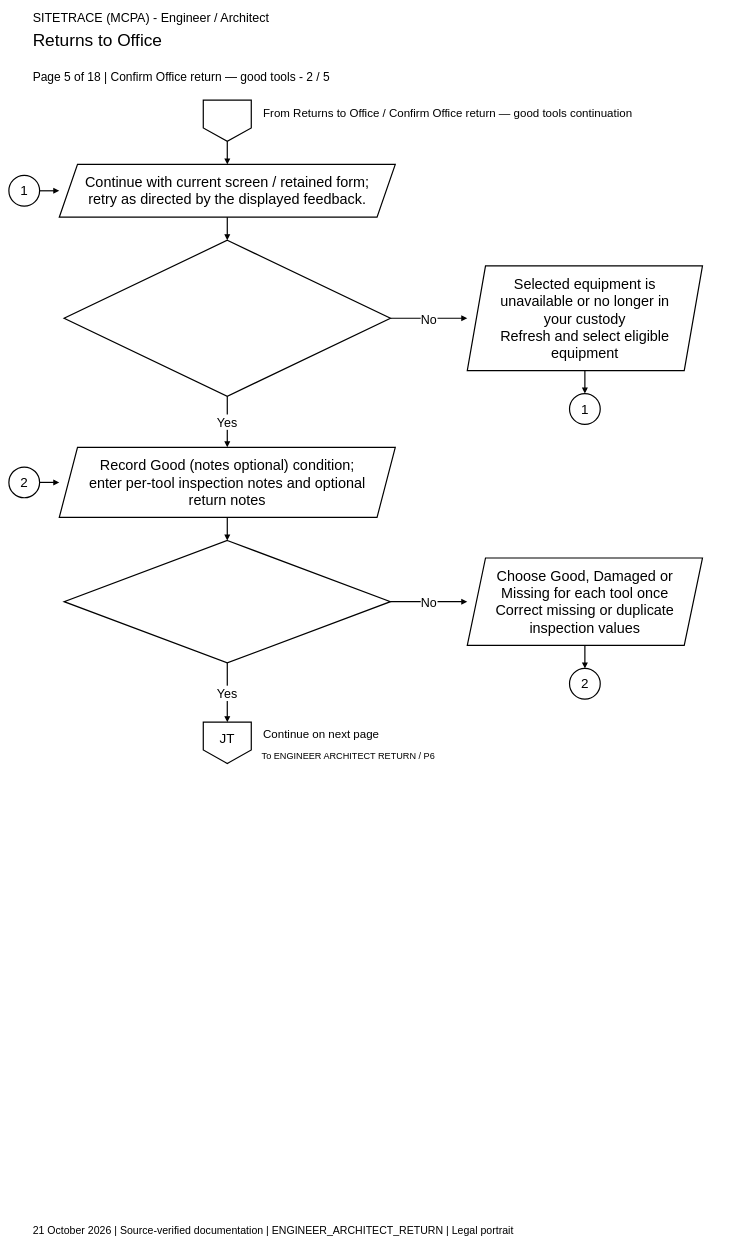
Image size: 747x1248. Some labels were removed from this diagram. The box of each missing label's shape, as (x1, y1, x2, y2) in pixels:
Exactly one valid inspection for every selected tool?: (63, 540, 391, 663)
JS: (202, 99, 252, 142)
Own in-use tools, positive quantity and no request/transfer allocation?: (63, 239, 391, 397)
